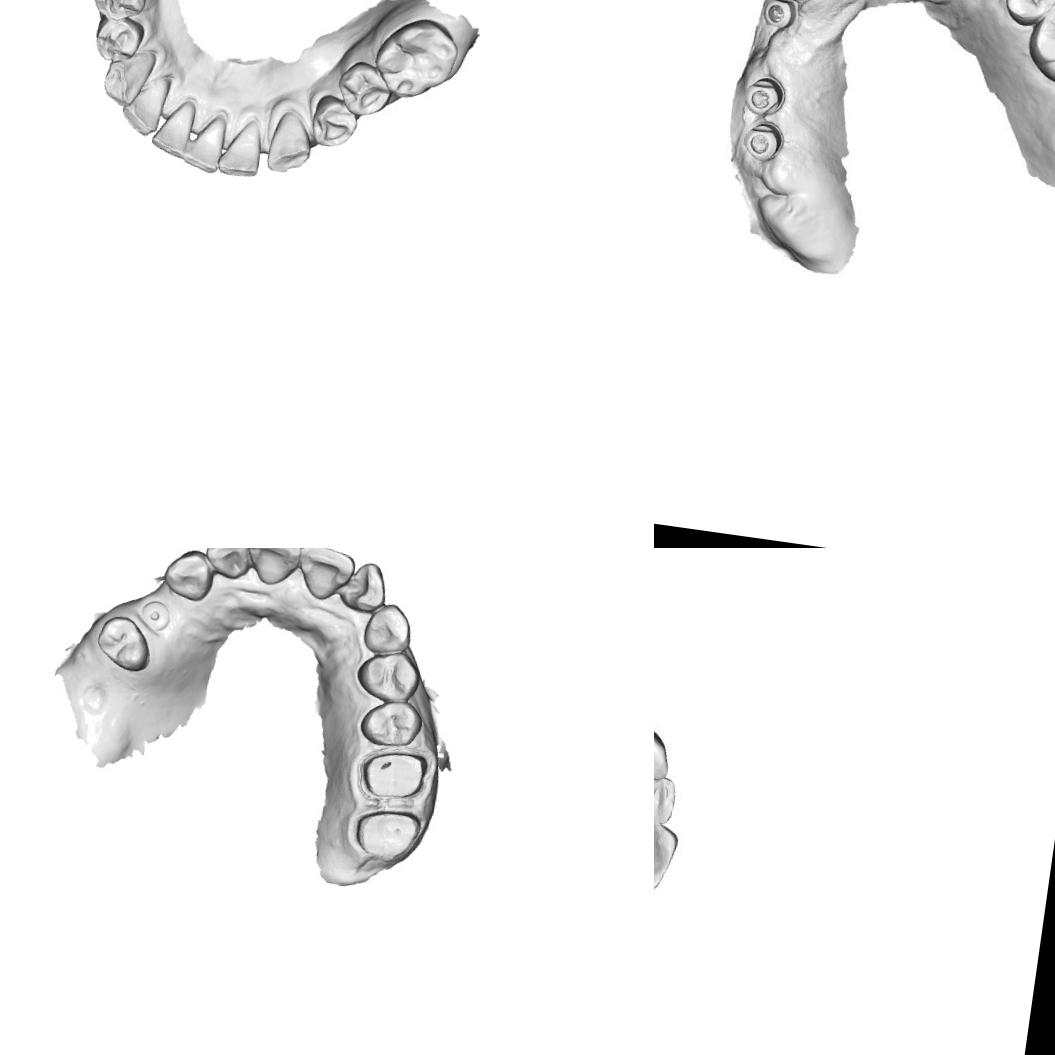canine: (98, 40, 158, 110), (264, 106, 318, 178), (361, 599, 416, 658), (160, 548, 217, 604)
crown: (349, 804, 424, 865), (357, 746, 429, 805)
implant: (741, 71, 788, 120), (740, 118, 787, 165), (137, 597, 173, 634), (760, 0, 799, 31)
incisor: (116, 67, 175, 142), (214, 109, 268, 182), (146, 94, 200, 163), (293, 548, 358, 605), (178, 106, 230, 176), (338, 558, 391, 615), (241, 548, 304, 589), (654, 817, 681, 892), (201, 548, 254, 581), (654, 776, 678, 828)
molar: (368, 9, 465, 108), (1023, 0, 1055, 89)
premolar: (352, 646, 426, 705), (333, 57, 398, 124), (92, 612, 155, 674), (356, 696, 425, 752), (302, 88, 362, 152), (89, 13, 147, 68), (86, 0, 153, 29), (1001, 0, 1055, 31)
